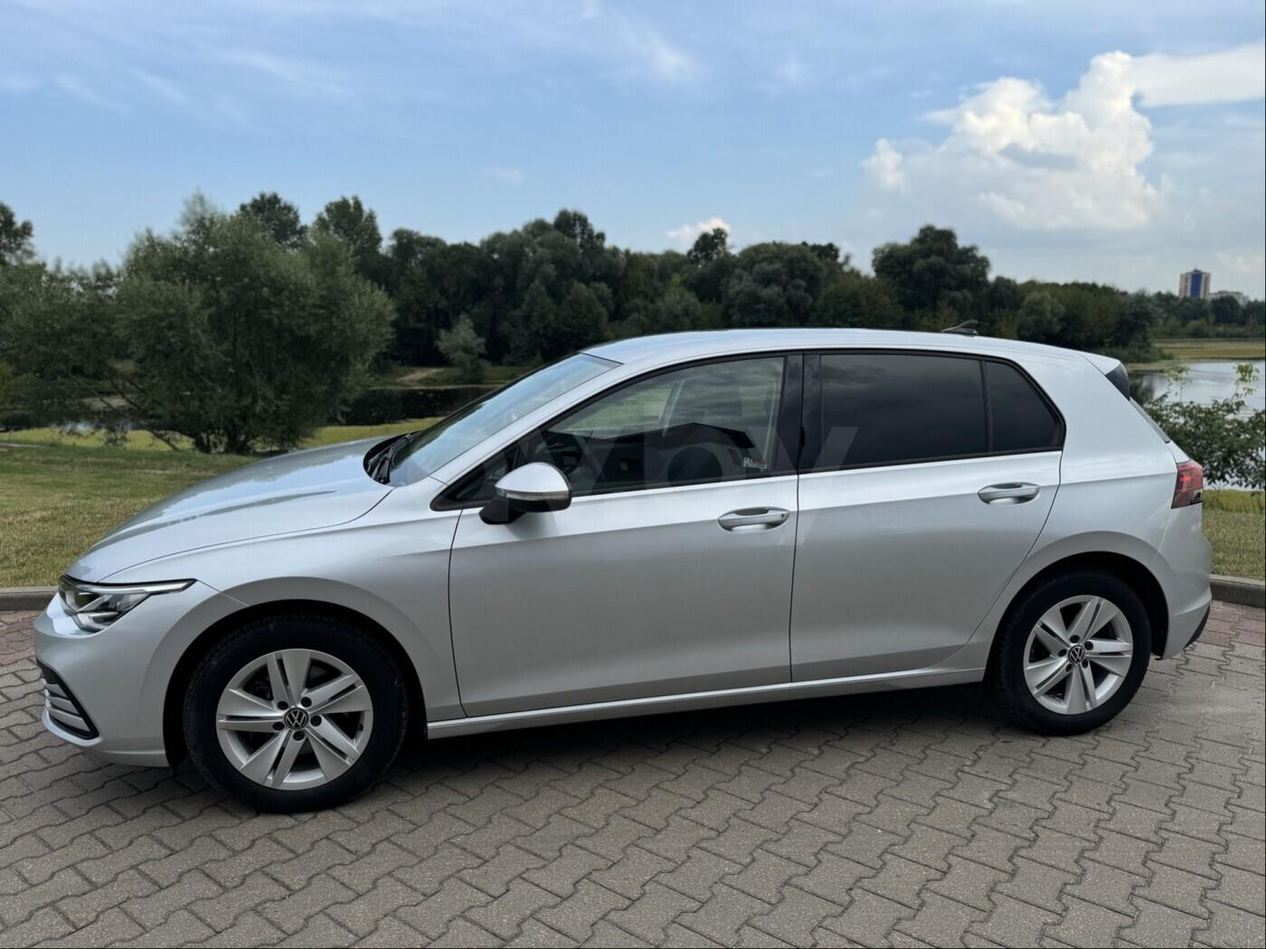Golf_2019: (28, 327, 1210, 813)
